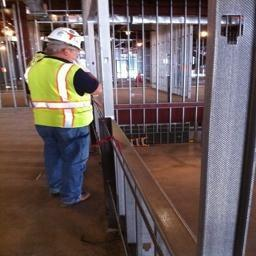hat: (45, 26, 86, 52)
low quality vest: (24, 57, 96, 131)
